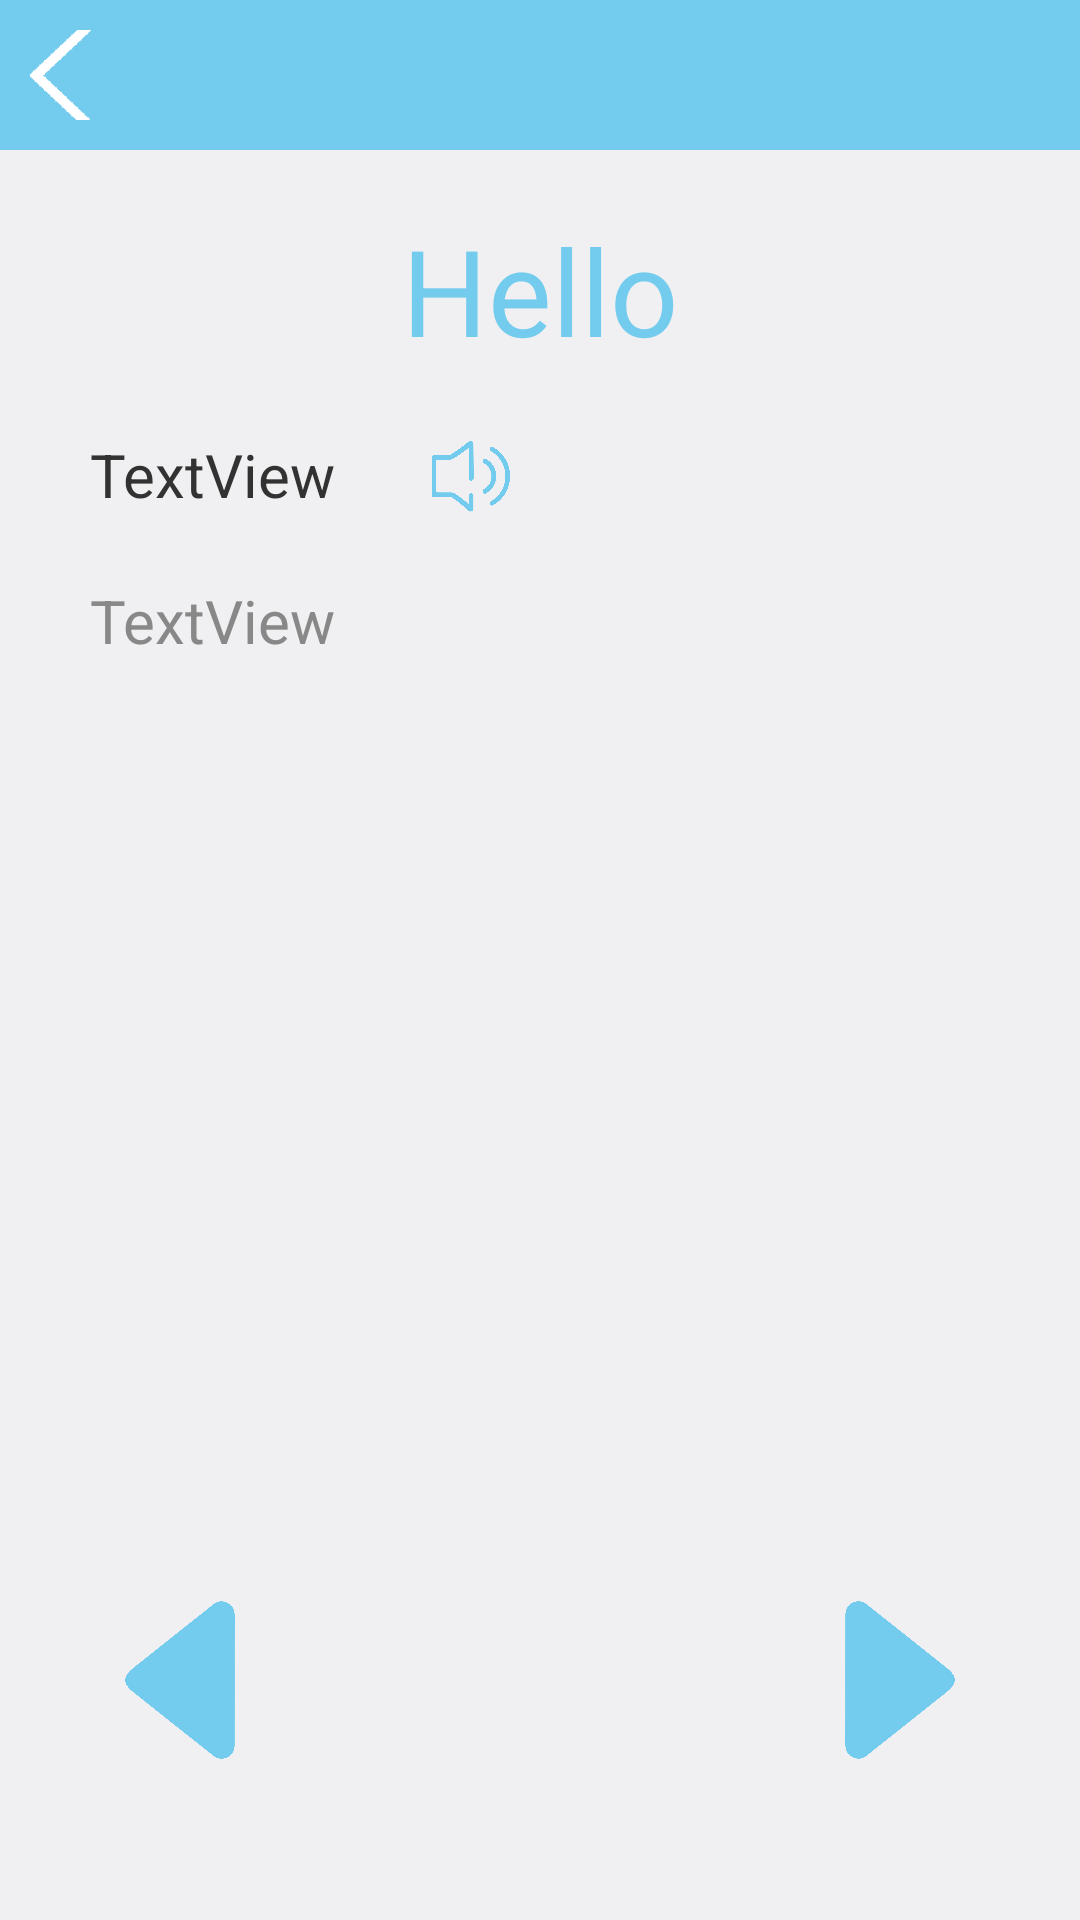

Icon click points for this 1080*1920 phone screenshot, format (x,y):
horn: (471,476)
next: (900,1680)
